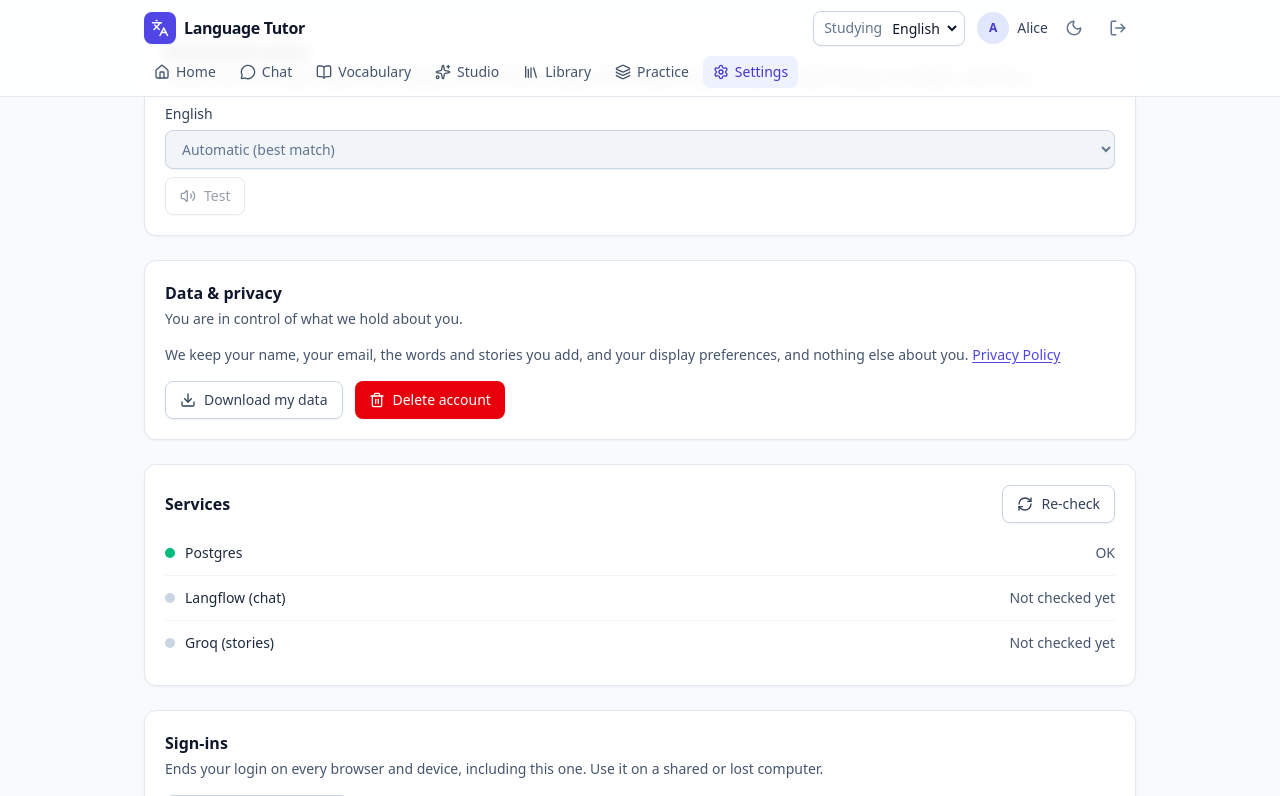
settings: deleting the account › lists what is deleted, needs a password, and can be cancelled without any request
(page scrolled)
Click the button "Delete account" at {"x": 430, "y": 400}, box [354,381,505,419]
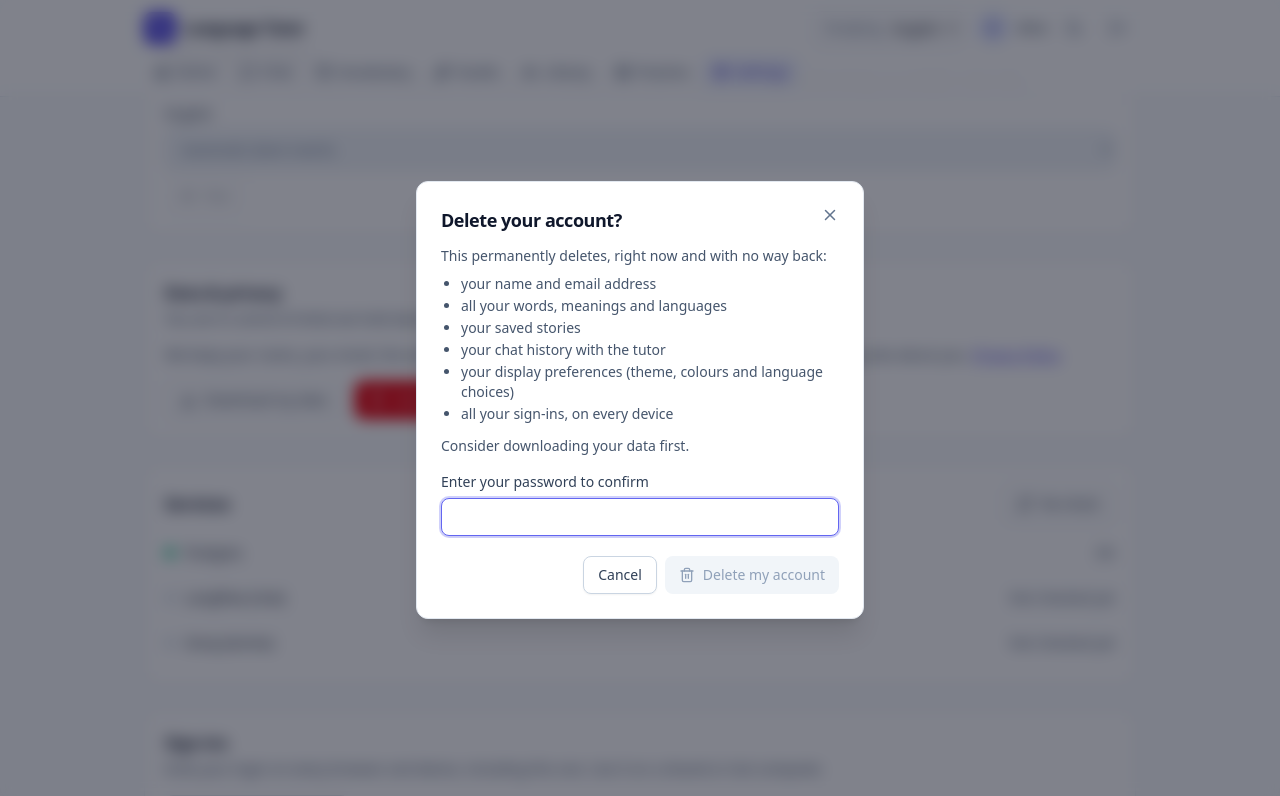
Expected: the list item "your name and email address" is shown, [461,274,656,293]
Expected: the list item "all your words, meanings and languages" is shown, [461,296,727,315]
Expected: the list item "your saved stories" is shown, [461,318,581,337]
Click the button "Cancel" at {"x": 620, "y": 575}, box [583,556,657,594]
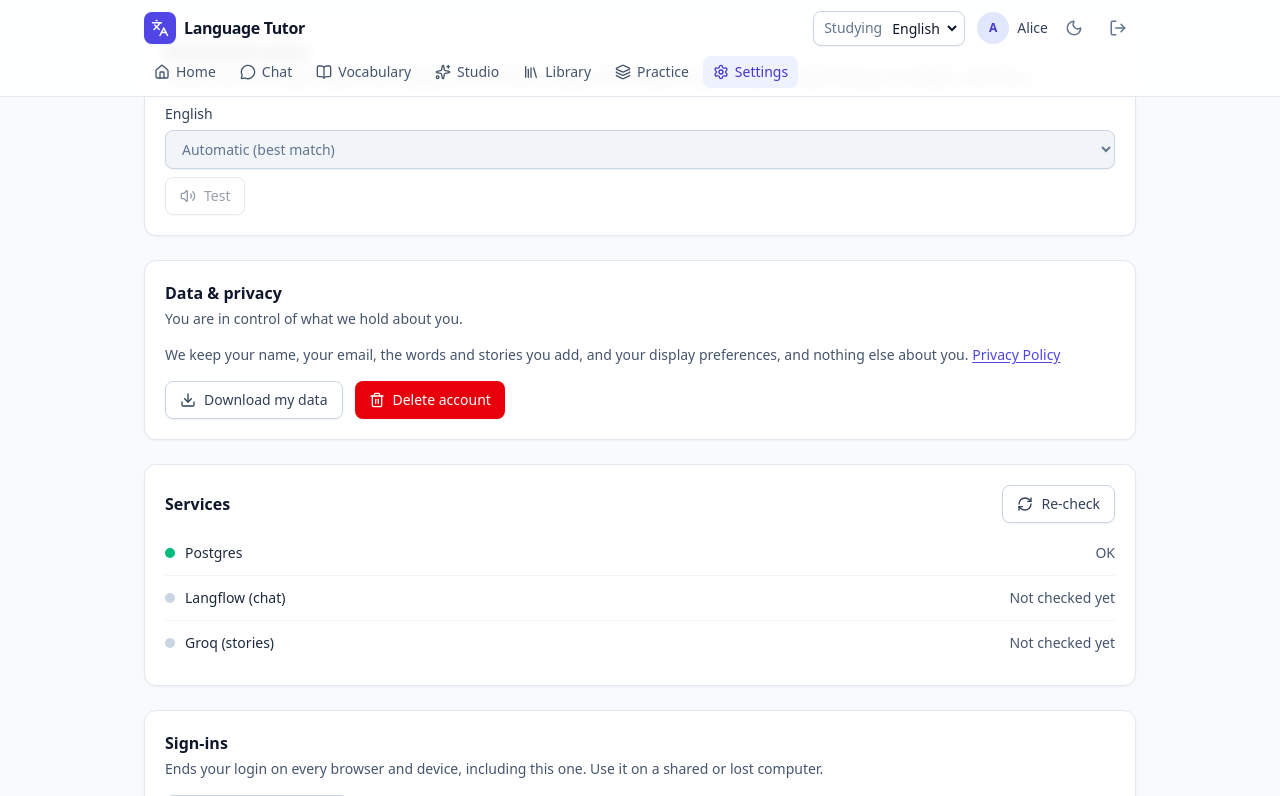
Expected: the dialog is gone
